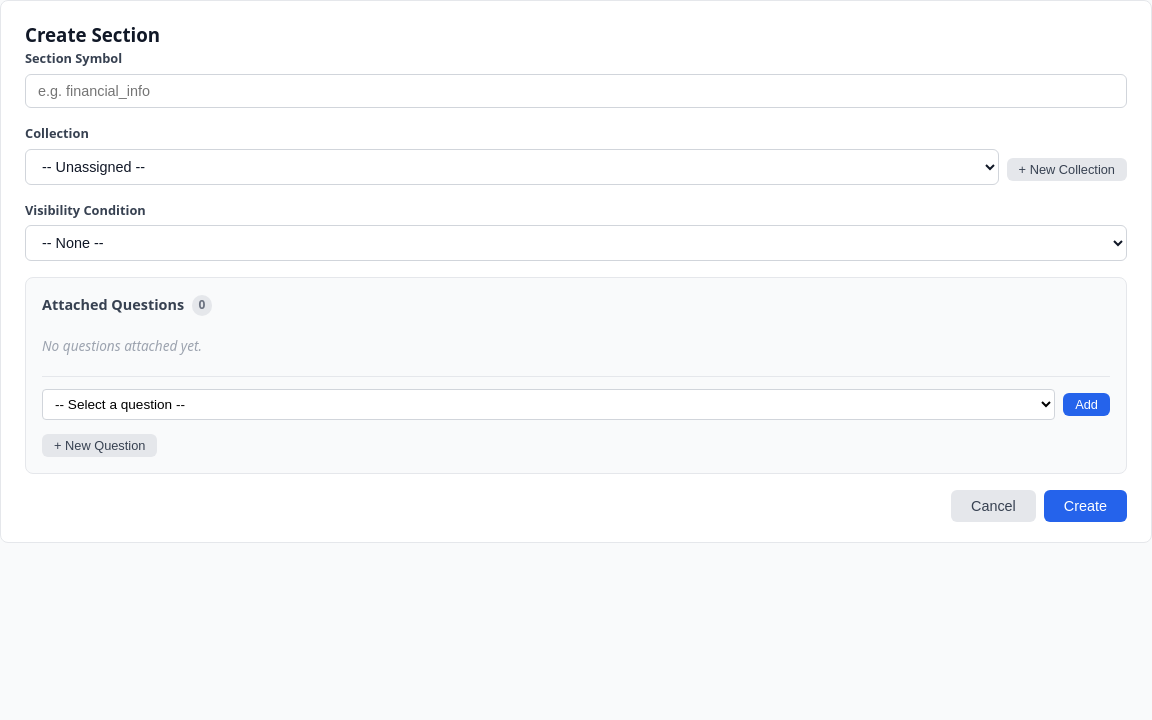
Test: SectionForm › given a short symbol › when submitted, then shows symbol length validation error
Type "a" into the field labelled "Section Symbol" at {"x": 576, "y": 91}, box [25, 74, 1127, 108]
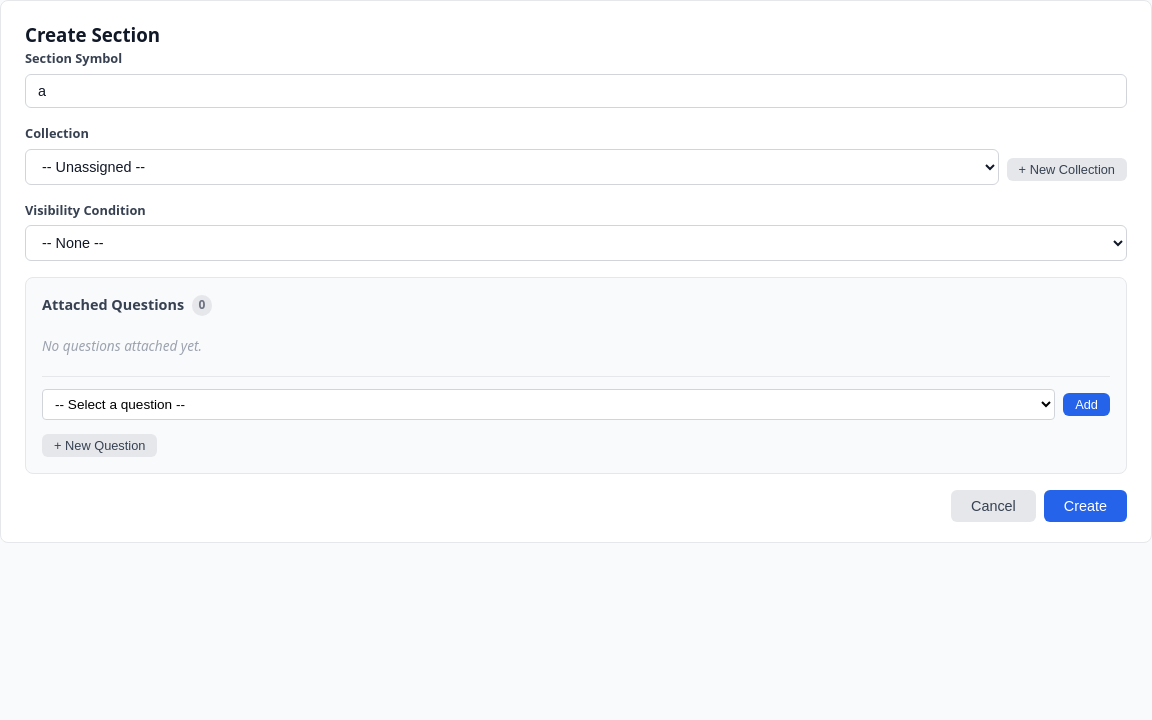
Click the button "Create" at {"x": 1085, "y": 506}, box [1044, 490, 1127, 522]
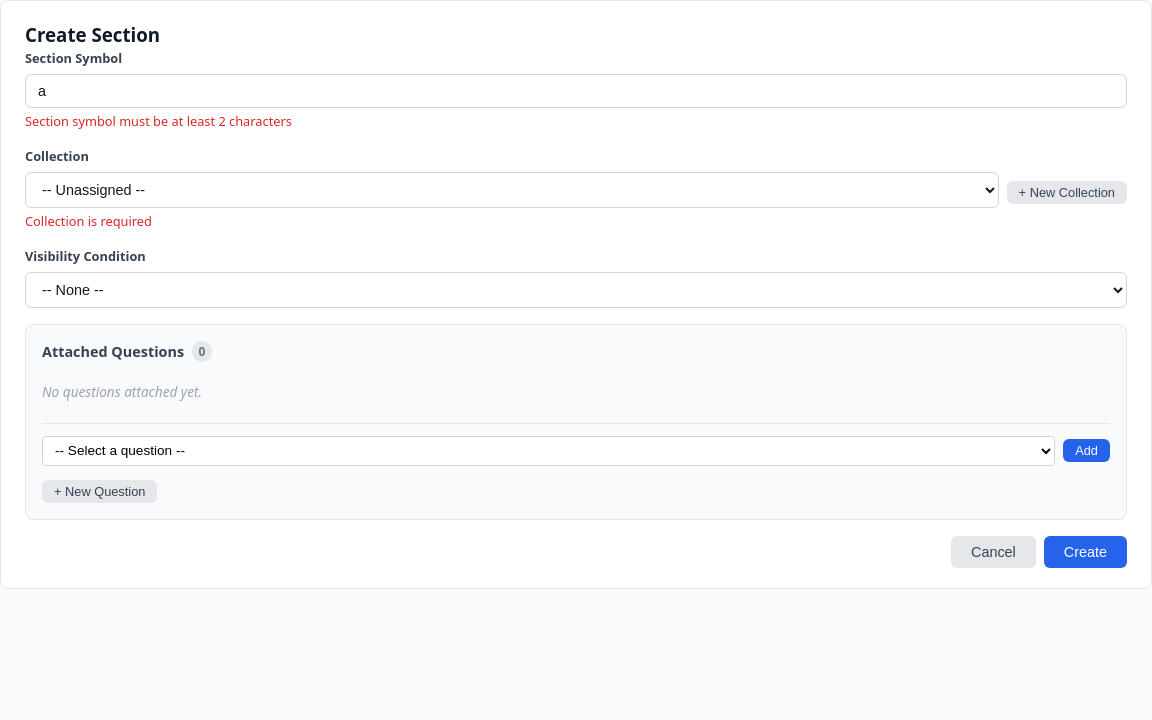
Result: the text "Section symbol must be at least 2 characters" is shown at [25, 112, 292, 130]
